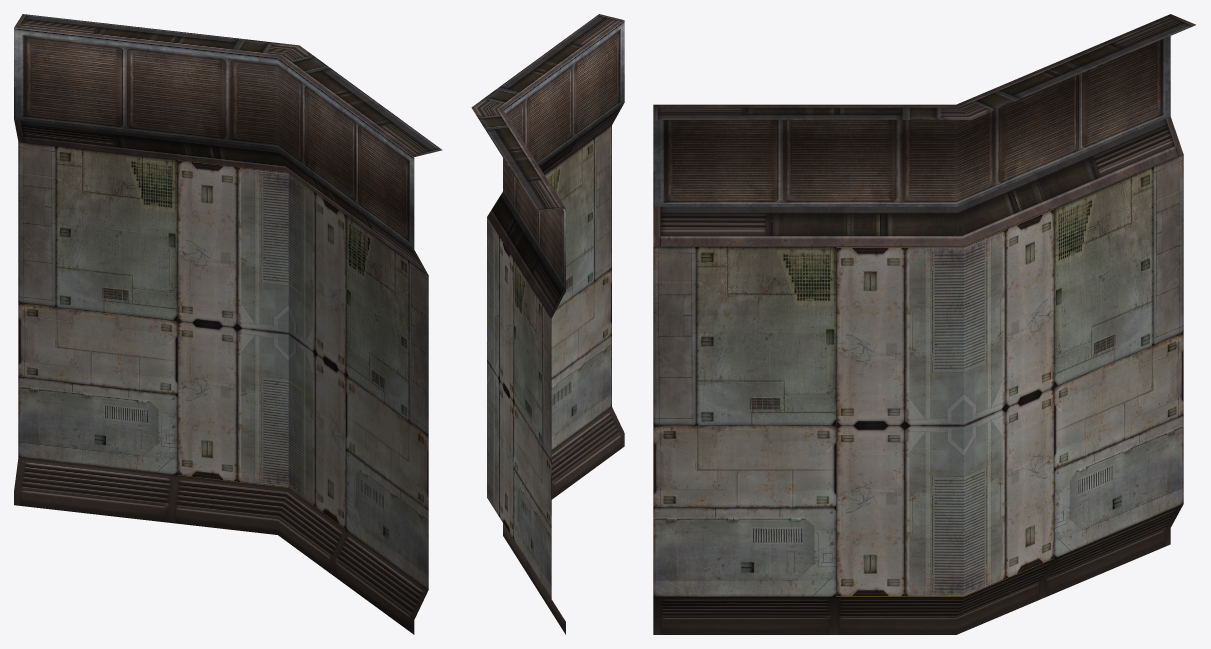
Rendered from Wall_High_new10.fbx.
The picture shows the model from 3 angles, left to right: view 1: azimuth 30°, elevation 25°; view 2: azimuth 150°, elevation 25°; view 3: azimuth 270°, elevation 25°; orthographic projection. The views are drawn at different scales.
Visible parts, largest first — view 1: Wall_High_new10; view 2: Wall_High_new10; view 3: Wall_High_new10.
Boxes of the visible parts, x1,y1,x2,y2 form: Wall_High_new10: (14,14,442,634); Wall_High_new10: (471,14,624,634); Wall_High_new10: (653,14,1195,634).
Size of the model in its own units: 171 by 400 by 371.
